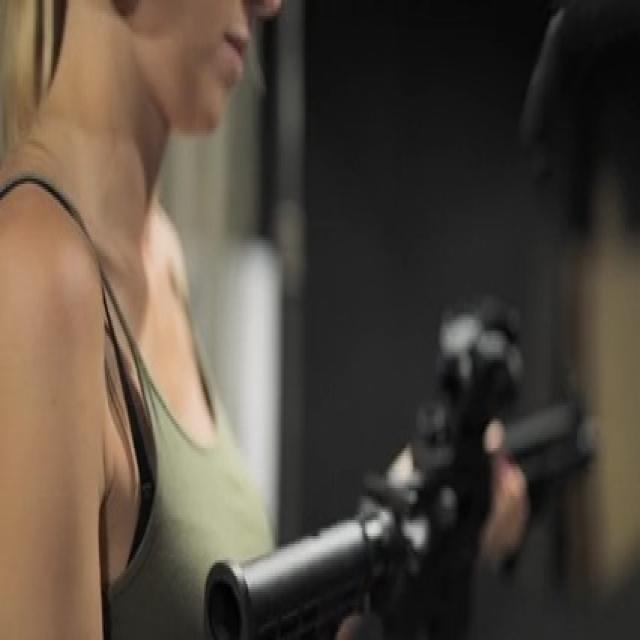Gun_Holder: (198, 269, 640, 640)
Person: (0, 0, 370, 640)
